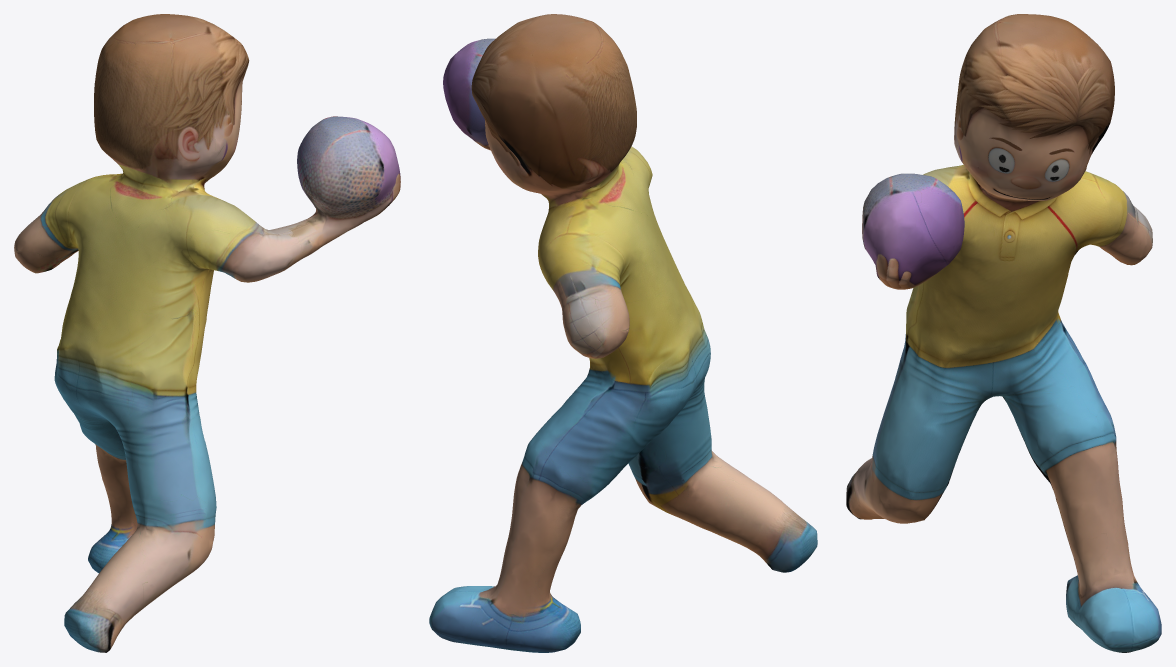
The model's file is bowler.fbx.
The picture shows the model from 3 angles, left to right: view 1: azimuth 30°, elevation 25°; view 2: azimuth 150°, elevation 25°; view 3: azimuth 270°, elevation 25°; orthographic projection. The views are drawn at different scales.
Parts seen in each view (by area): view 1: Mesh_0; view 2: Mesh_0; view 3: Mesh_0.
Part boxes in pixels (x1=…): Mesh_0: x1=14, y1=14, x2=400, y2=652; Mesh_0: x1=429, y1=14, x2=817, y2=652; Mesh_0: x1=846, y1=14, x2=1161, y2=652.
Size of the model in its own units: 73.95 by 120 by 57.03.
1 material, 1 textured.
